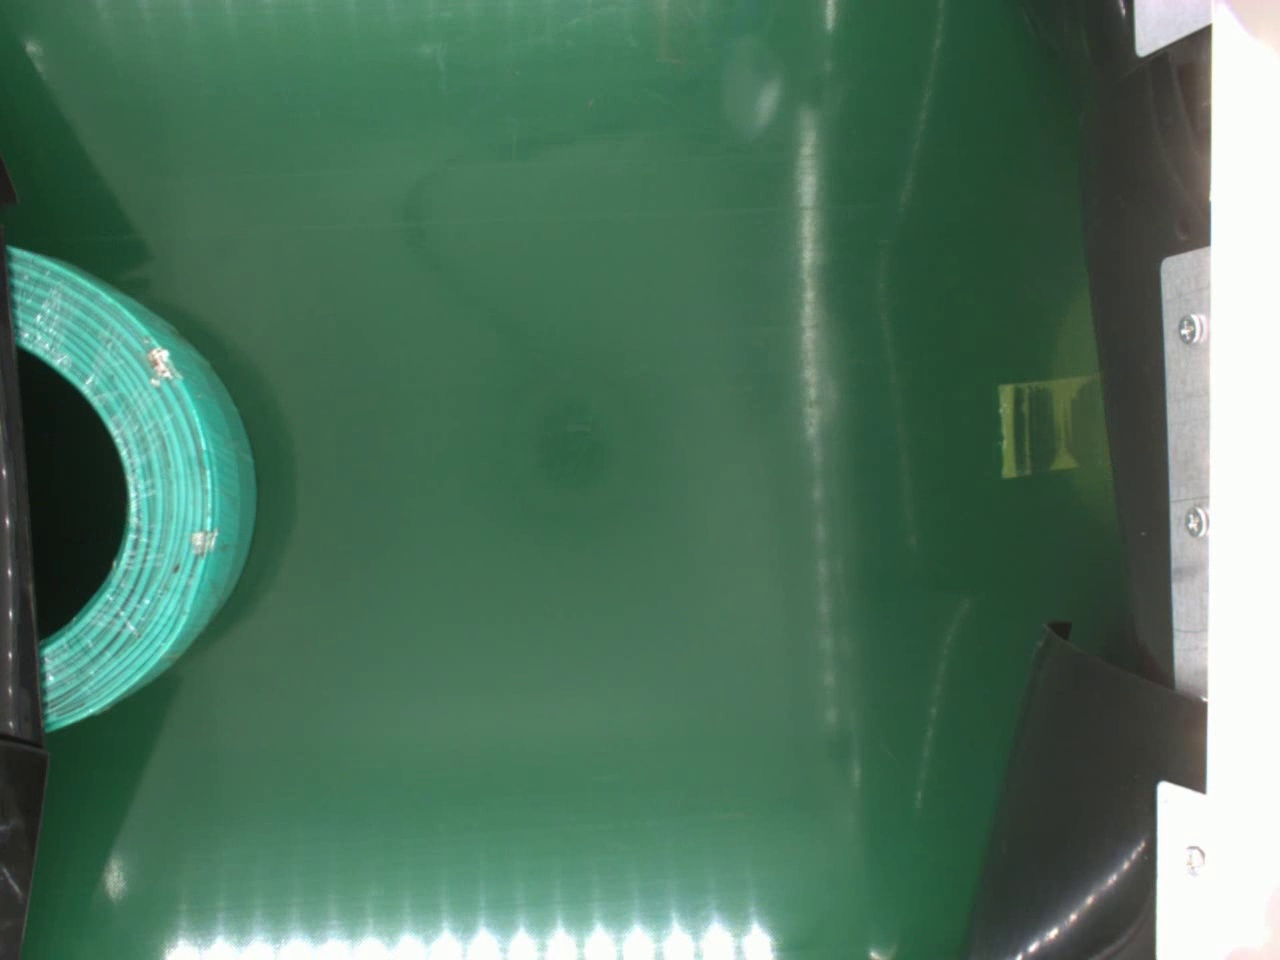green: (4, 243, 258, 733)
